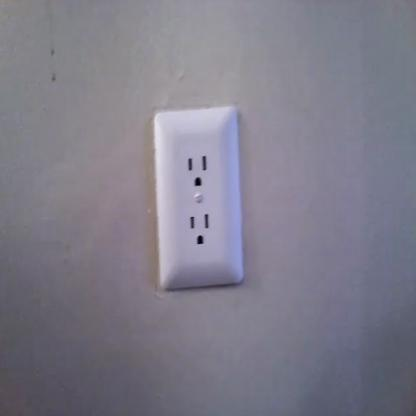OUTLET: (155, 110, 242, 284)
